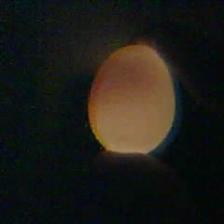infertile: (87, 45, 177, 157)
